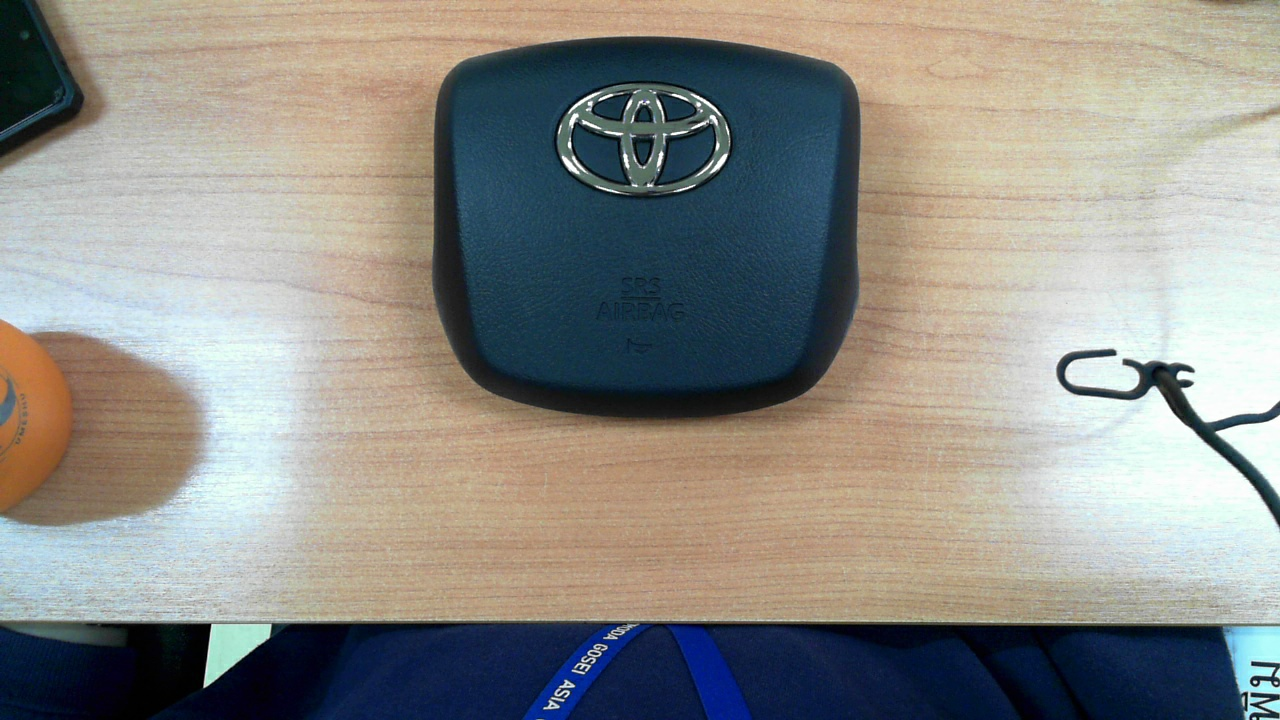Airbag: (403, 15, 887, 431)
